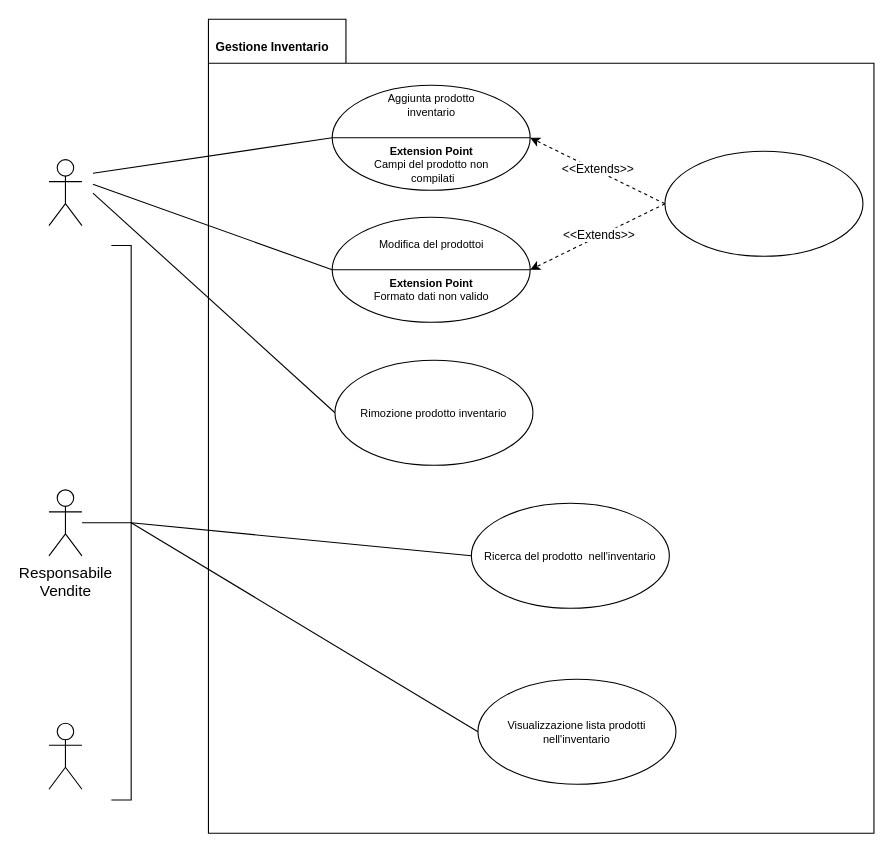
The diagram is 893 pixels wide and 854 high, and some of its shapes have lost their labels. Each missing label, with the centre of its shape:
Direttore Generale: the point at 65,755
Magazziniere: the point at 65,192
Prodotto errato: the point at 763,203
